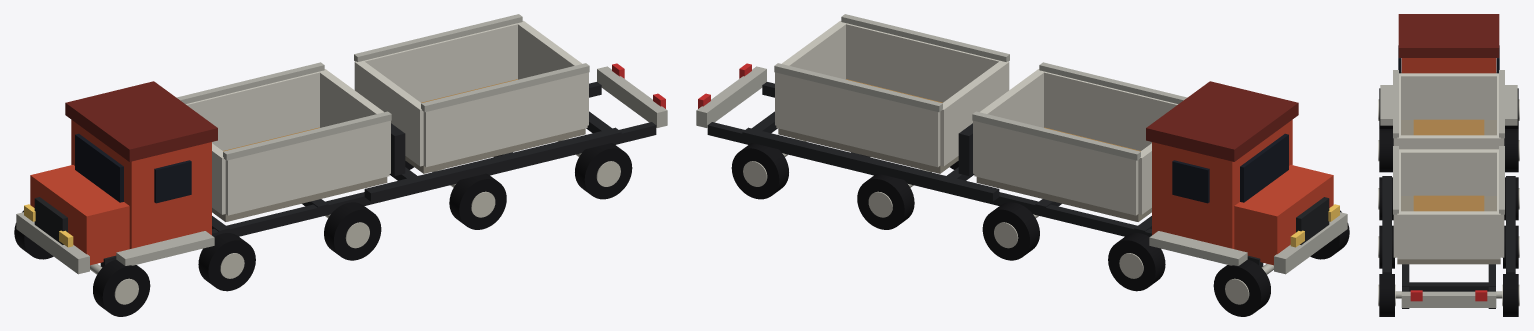
File: camion-chasis-doble-caja.glb
3 views of the same model, side by side, from view 1: azimuth 30°, elevation 25°; view 2: azimuth 150°, elevation 25°; view 3: azimuth 270°, elevation 25° (orthographic). The views are drawn at different scales.
Visible parts, largest first — view 1: caja_carga_delantera_lateral_der, caja_carga_trasera_lateral_der, techo_cabina, caja_carga_trasera_lateral_izq, cabina_principal, caja_carga_delantera_lateral_izq, trompa_cabina, guardabarros_trasero_der, larguero_chasis_der, caja_carga_trasera_frente, caja_carga_trasera_cola, caja_carga_delantera_cola (+25 smaller); view 2: caja_carga_delantera_lateral_izq, caja_carga_trasera_lateral_izq, techo_cabina, caja_carga_trasera_lateral_der, cabina_principal, caja_carga_delantera_lateral_der, trompa_cabina, guardabarros_trasero_izq, larguero_chasis_izq, caja_carga_trasera_frente, caja_carga_trasera_cola, caja_carga_delantera_cola (+25 smaller); view 3: caja_carga_trasera_cola, caja_carga_trasera_frente, caja_carga_delantera_frente, techo_cabina, caja_carga_delantera_cola, cabina_principal, barra_trasera, caja_carga_delantera_carga_baja, caja_carga_trasera_carga_baja, caja_carga_trasera_piso, guardabarros_trasero_izq, guardabarros_trasero_der (+26 smaller).
Boxes of the visible parts, <box> form: caja_carga_delantera_lateral_der: <box>225,121,389,215</box>; caja_carga_trasera_lateral_der: <box>423,72,587,167</box>; techo_cabina: <box>65,81,217,161</box>; caja_carga_trasera_lateral_izq: <box>360,22,521,102</box>; cabina_principal: <box>71,120,211,248</box>; caja_carga_delantera_lateral_izq: <box>186,71,322,150</box>; trompa_cabina: <box>30,165,129,265</box>; guardabarros_trasero_der: <box>364,127,621,201</box>; larguero_chasis_der: <box>100,122,656,267</box>; caja_carga_trasera_frente: <box>354,61,423,166</box>; caja_carga_trasera_cola: <box>518,20,588,125</box>; caja_carga_delantera_cola: <box>320,69,390,173</box>; caja_carga_delantera_lateral_izq: <box>974,121,1138,215</box>; caja_carga_trasera_lateral_izq: <box>776,72,940,167</box>; techo_cabina: <box>1146,81,1298,161</box>; caja_carga_trasera_lateral_der: <box>842,22,1003,102</box>; cabina_principal: <box>1152,120,1292,248</box>; caja_carga_delantera_lateral_der: <box>1040,70,1177,150</box>; trompa_cabina: <box>1234,165,1333,265</box>; guardabarros_trasero_izq: <box>742,127,999,201</box>; larguero_chasis_izq: <box>707,122,1263,267</box>; caja_carga_trasera_frente: <box>940,61,1009,166</box>; caja_carga_trasera_cola: <box>775,20,845,125</box>; caja_carga_delantera_cola: <box>973,69,1043,173</box>; caja_carga_trasera_cola: <box>1397,211,1500,259</box>; caja_carga_trasera_frente: <box>1399,149,1498,195</box>; caja_carga_delantera_frente: <box>1399,73,1498,119</box>; techo_cabina: <box>1398,14,1499,57</box>; caja_carga_delantera_cola: <box>1397,135,1500,149</box>; cabina_principal: <box>1401,58,1496,73</box>; barra_trasera: <box>1401,291,1496,307</box>; caja_carga_delantera_carga_baja: <box>1413,119,1484,135</box>; caja_carga_trasera_carga_baja: <box>1413,195,1484,211</box>; caja_carga_trasera_piso: <box>1397,196,1500,264</box>; guardabarros_trasero_izq: <box>1506,176,1515,278</box>; guardabarros_trasero_der: <box>1382,176,1391,278</box>.
Size of the model in its own units: 9.02 by 2.23 by 2.35.
